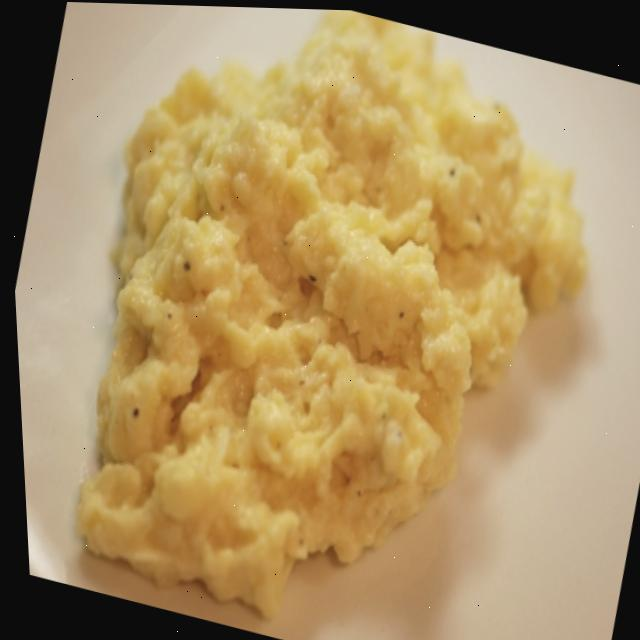鸡蛋料理: (11, 0, 640, 640)
